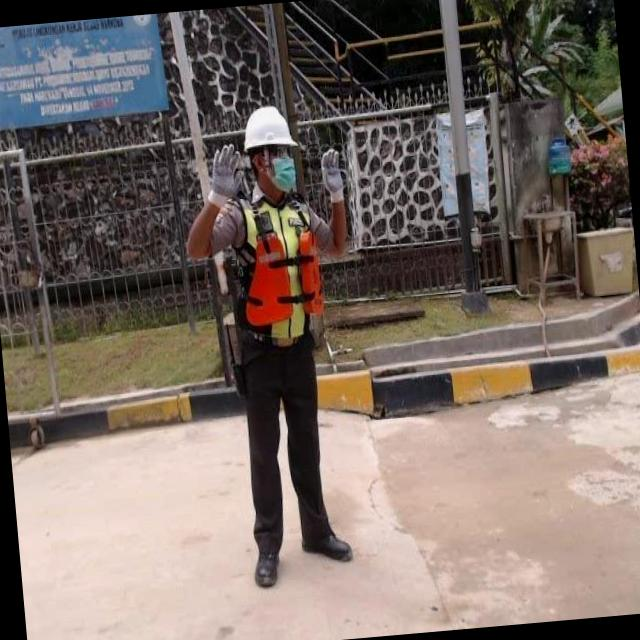boots: (296, 513, 358, 569), (246, 523, 288, 593)
gloves: (198, 130, 241, 204), (310, 143, 358, 204)
helmet: (237, 100, 302, 159)
vest: (218, 188, 330, 354)
